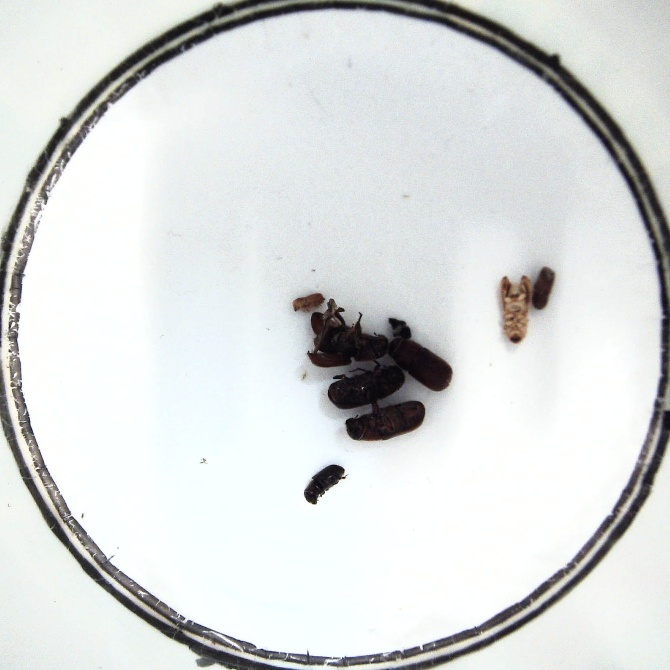acuminatus: (292, 291, 324, 312)
armandi: (304, 464, 346, 507)
boerner: (501, 274, 533, 344)
coleoptera: (387, 313, 412, 338)
leconte: (308, 298, 390, 366), (344, 400, 424, 444), (327, 366, 405, 408), (392, 339, 452, 393)
linnaeus: (533, 264, 556, 312)
